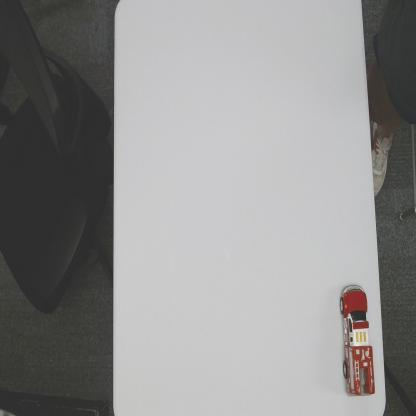Firetruck: (339, 283, 376, 398)
